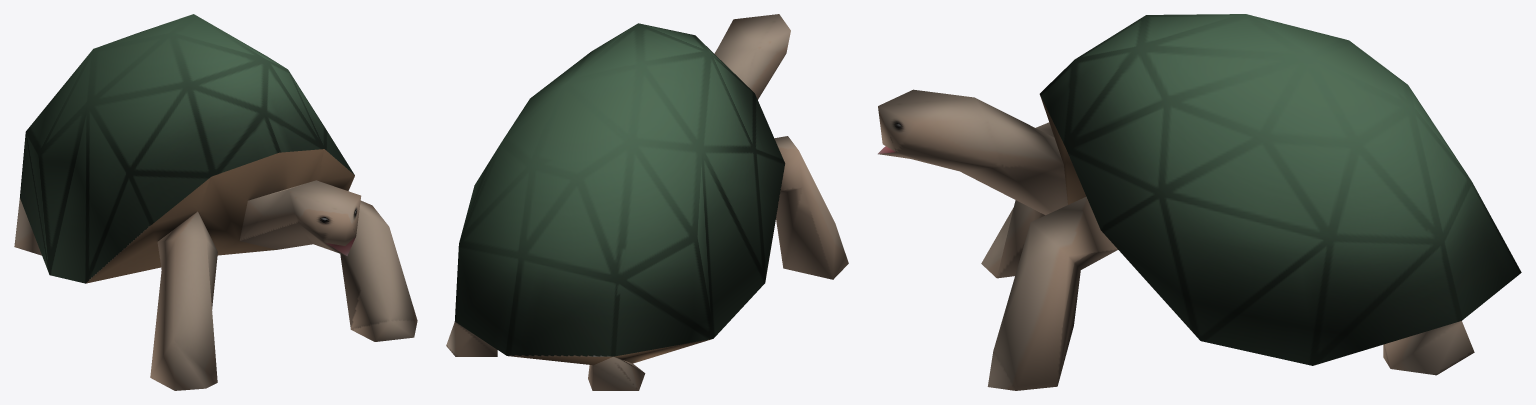
Rendered from pets_04.fbx.
The picture shows the model from 3 angles, left to right: view 1: azimuth 30°, elevation 25°; view 2: azimuth 150°, elevation 25°; view 3: azimuth 270°, elevation 25°; orthographic projection. The views are drawn at different scales.
Parts seen in each view (by area): view 1: pets_04; view 2: pets_04; view 3: pets_04.
Part boxes in pixels (x1=…): pets_04: x1=14, y1=14, x2=417, y2=390; pets_04: x1=446, y1=14, x2=848, y2=390; pets_04: x1=878, y1=14, x2=1521, y2=390.
Bounding box in the file's own units: 3.87 × 3.71 × 7.25.
